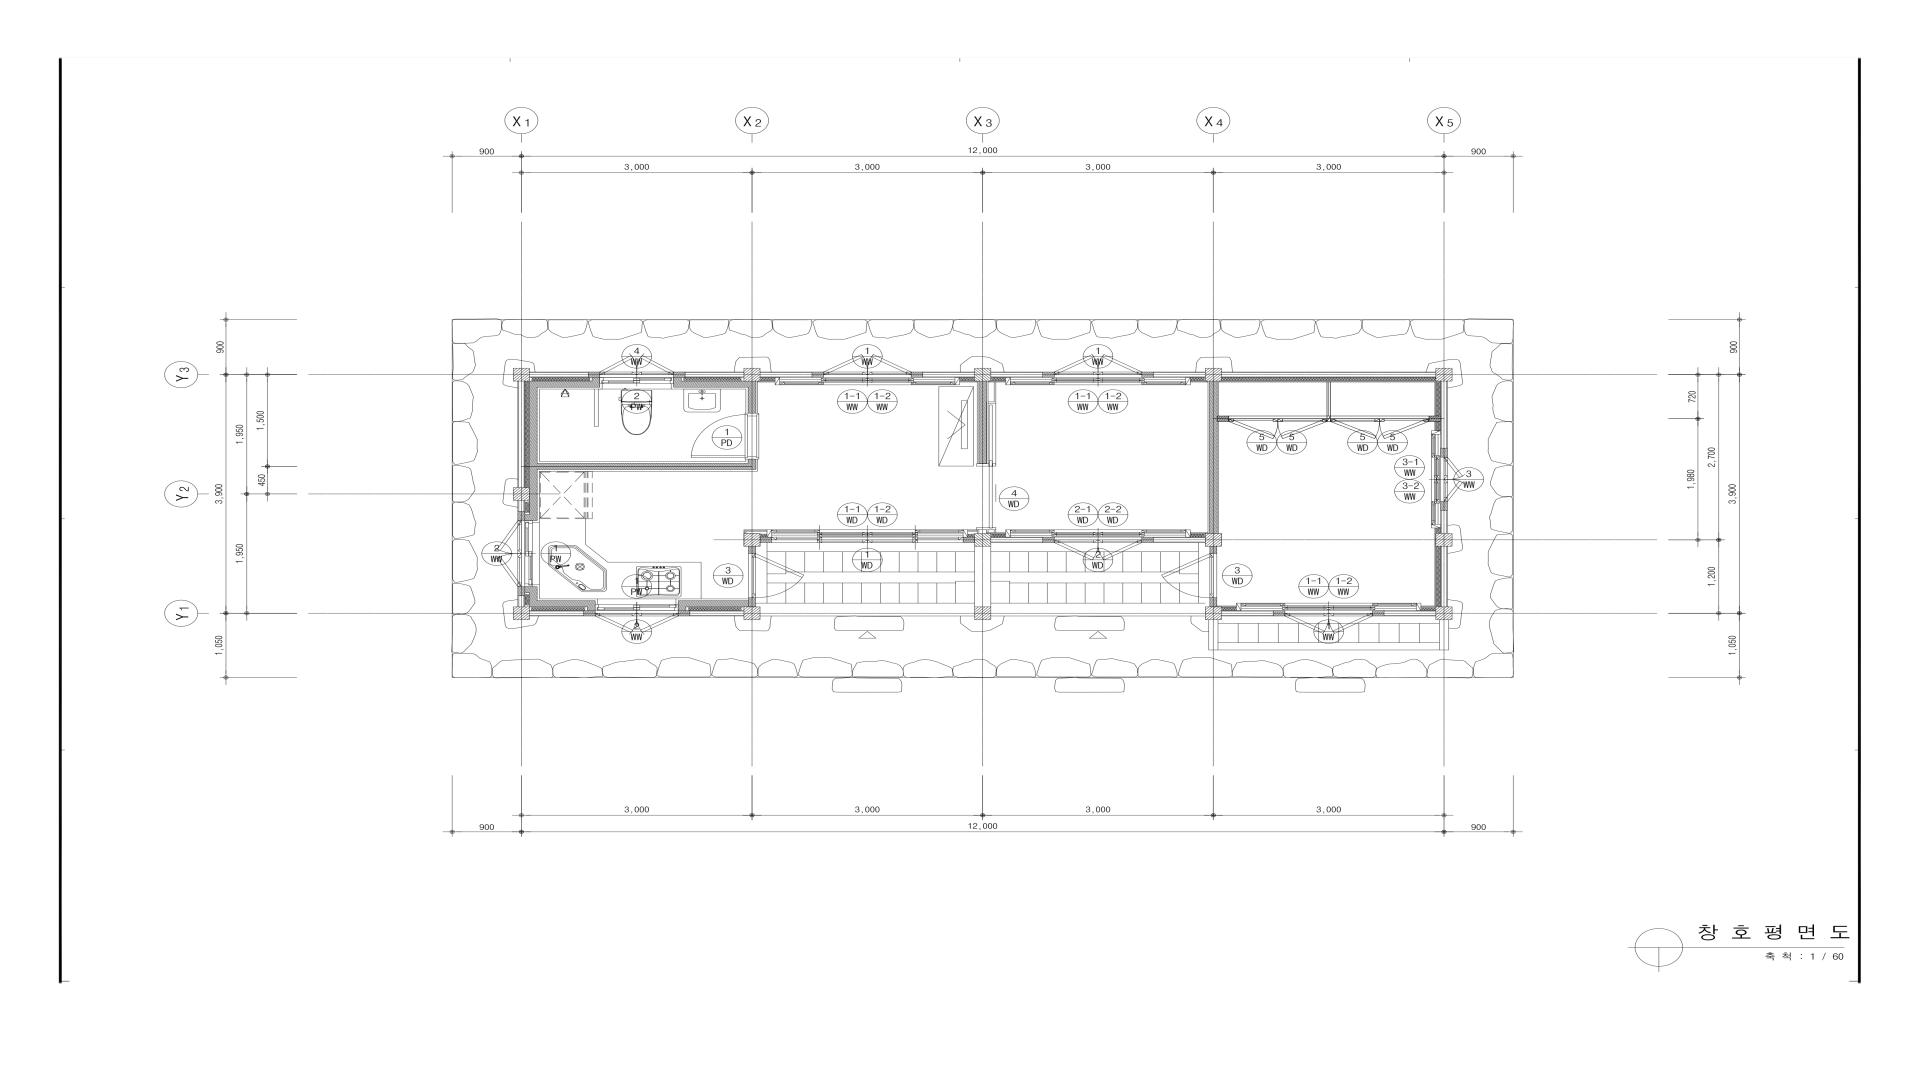door: (690, 413, 757, 460), (748, 554, 804, 597), (1162, 554, 1217, 597), (1332, 415, 1428, 439), (1229, 417, 1327, 439)
wall: (529, 372, 600, 463), (674, 372, 757, 413), (537, 459, 756, 469), (517, 587, 595, 611), (1209, 381, 1217, 533), (517, 463, 537, 521), (1221, 372, 1436, 377), (678, 600, 749, 616), (518, 381, 525, 488), (978, 381, 986, 464), (1440, 381, 1448, 448), (1441, 546, 1448, 607), (990, 537, 1043, 543), (923, 372, 975, 378), (1154, 372, 1205, 378), (530, 372, 588, 377), (686, 372, 744, 377), (529, 611, 584, 616), (1221, 611, 1274, 616), (990, 372, 1043, 377), (1385, 611, 1436, 616), (1154, 537, 1205, 542), (761, 372, 812, 377), (1205, 607, 1222, 620), (744, 607, 761, 620), (513, 607, 530, 620), (513, 368, 530, 381), (744, 368, 761, 381), (975, 368, 992, 381), (1436, 607, 1452, 620), (1205, 533, 1221, 546), (975, 533, 990, 546), (744, 533, 760, 546), (1205, 368, 1221, 381), (1436, 368, 1452, 381), (1436, 533, 1452, 546), (513, 488, 529, 500), (1440, 510, 1448, 533), (517, 500, 525, 512), (1142, 537, 1154, 543), (1043, 537, 1055, 543), (963, 537, 975, 543), (760, 537, 771, 543), (911, 372, 923, 378), (1142, 372, 1154, 378), (1209, 597, 1217, 607), (748, 597, 756, 607), (1440, 448, 1448, 458), (1440, 501, 1448, 510), (811, 372, 824, 377), (1042, 372, 1055, 377), (517, 596, 524, 607), (1373, 611, 1385, 616), (1274, 611, 1286, 616), (1209, 546, 1217, 554), (748, 546, 756, 554), (583, 611, 595, 616)
window: (766, 530, 968, 543), (823, 353, 911, 375), (1055, 353, 1142, 375), (1055, 539, 1142, 560), (496, 521, 522, 587), (1286, 613, 1373, 633), (595, 613, 678, 633), (600, 353, 674, 375), (774, 377, 960, 385), (1005, 377, 1191, 385), (1236, 603, 1422, 611), (1006, 530, 1191, 537), (595, 604, 678, 611), (525, 521, 533, 587), (600, 377, 674, 384)
